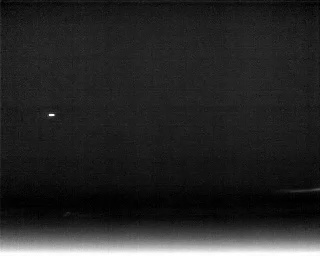AIRPLANE: (47, 111, 56, 119)
